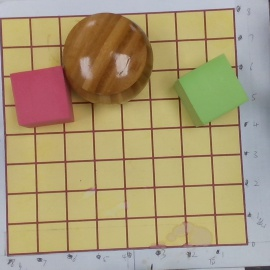chess: (63, 13, 153, 105)
